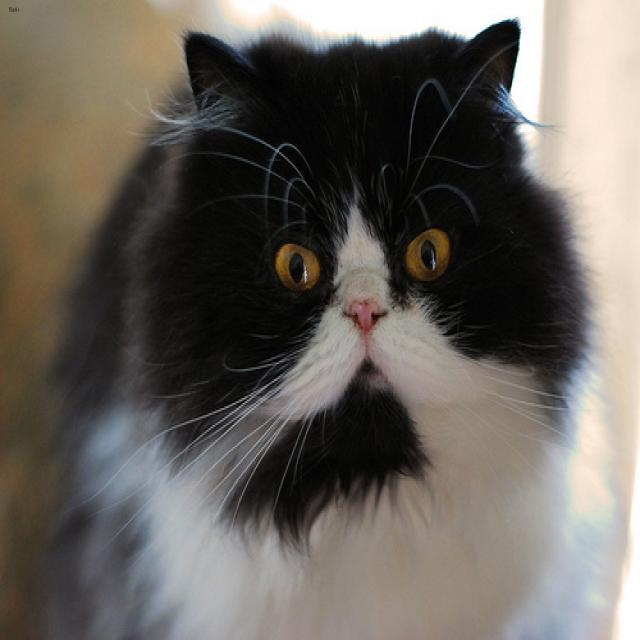Persian: (144, 0, 587, 502)
